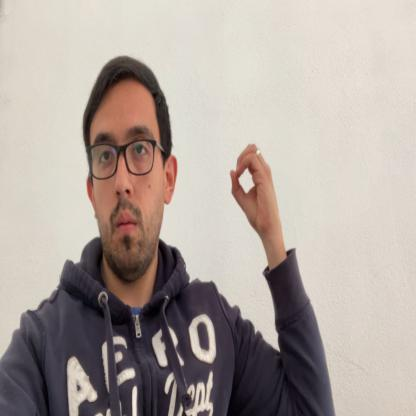O: (230, 144, 280, 248)
